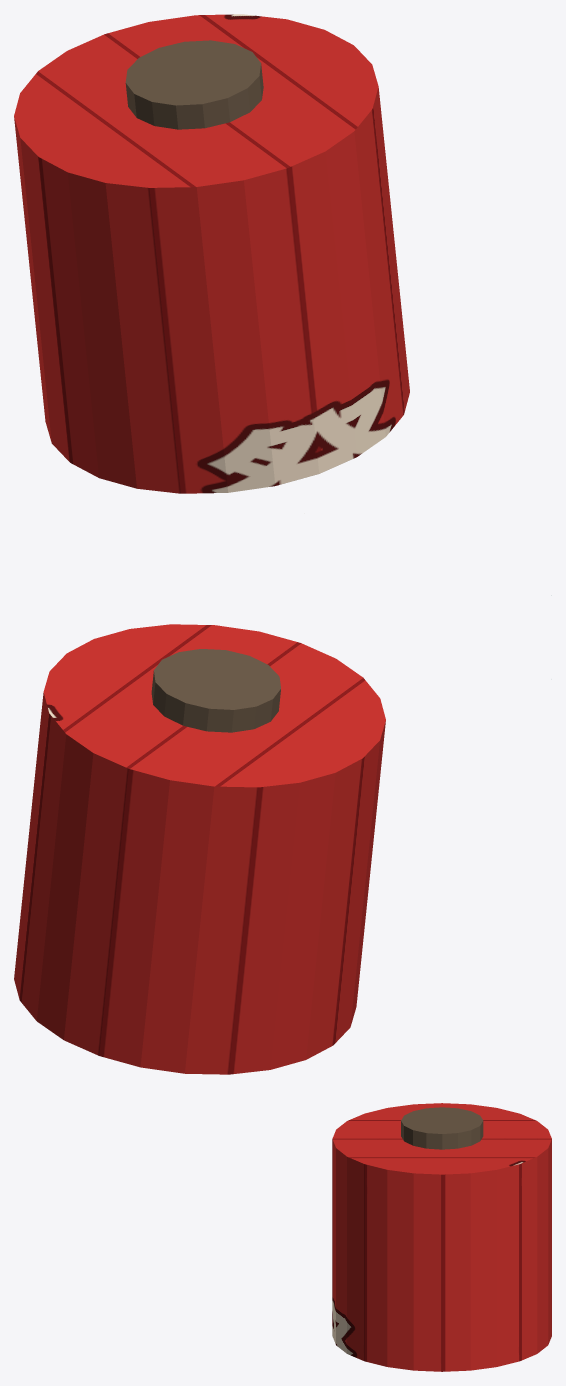
File: lantern_5tou_3d.glb
3 views of the same model, one above another, from view 1: azimuth 30°, elevation 25°; view 2: azimuth 150°, elevation 25°; view 3: azimuth 270°, elevation 25° (orthographic). The views are drawn at different scales.
Visible parts, largest first — view 1: lantern_body, lantern_cap_0; view 2: lantern_body, lantern_cap_0; view 3: lantern_body, lantern_cap_0.
Boxes of the visible parts, x1=… form: lantern_body: x1=14, y1=14, x2=409, y2=493; lantern_cap_0: x1=125, y1=40, x2=263, y2=129; lantern_body: x1=14, y1=624, x2=385, y2=1074; lantern_cap_0: x1=151, y1=649, x2=280, y2=732; lantern_body: x1=332, y1=1103, x2=551, y2=1371; lantern_cap_0: x1=401, y1=1107, x2=483, y2=1149.
Size of the model in its own units: 0.4375 by 0.4632 by 0.98.
Materials: 6 (3 with a texture image).
